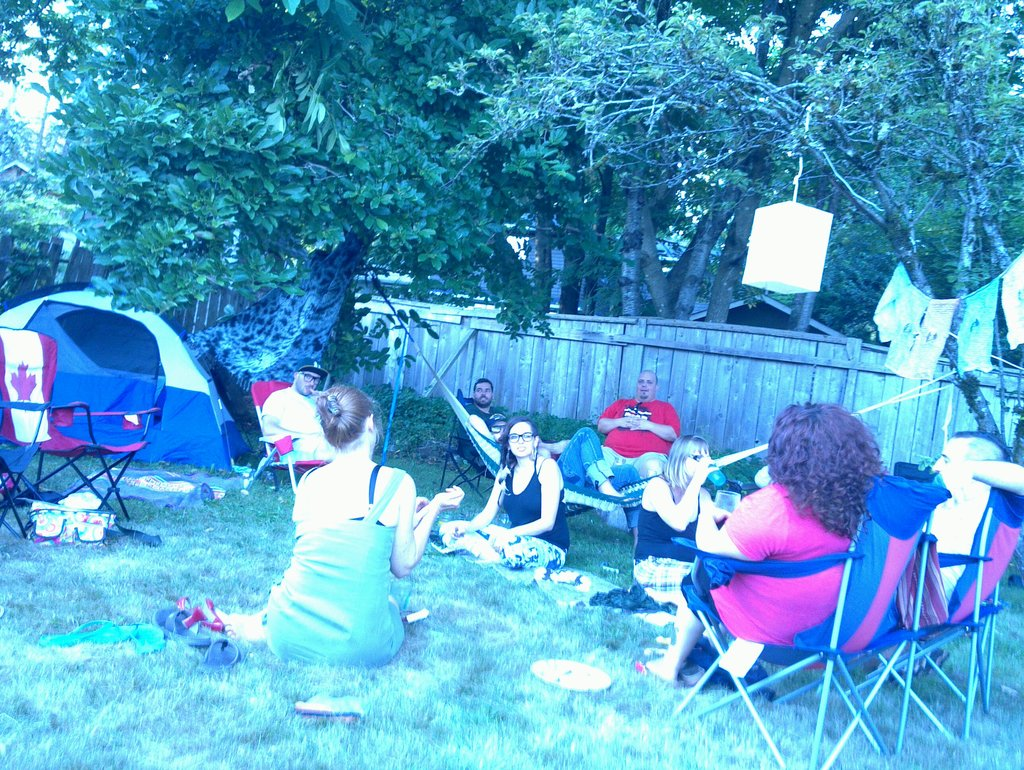Tree: (0, 0, 1024, 586)
